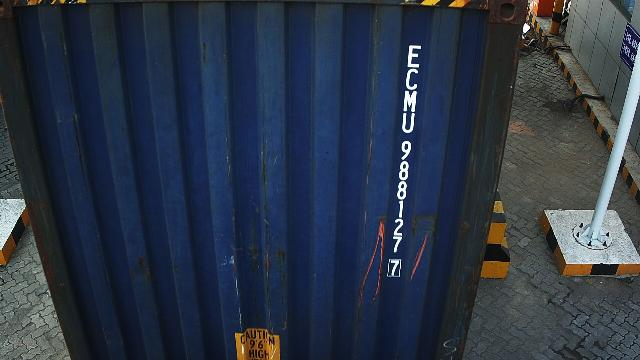1: (398, 200, 404, 218)
2: (392, 218, 403, 236)
7: (389, 259, 401, 277), (392, 236, 402, 254)
8: (398, 160, 409, 180), (397, 180, 408, 200)
9: (400, 140, 412, 160)
C: (405, 68, 419, 90)
E: (406, 44, 422, 68)
M: (402, 90, 418, 112)
U: (402, 112, 414, 134)
